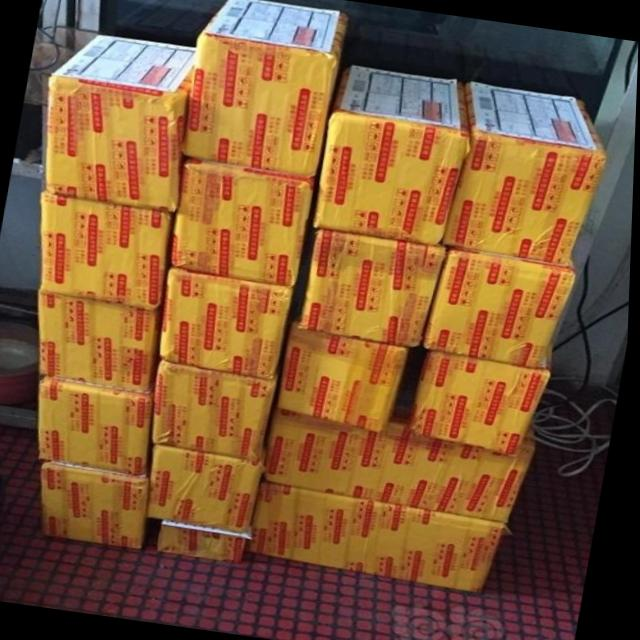box: (265, 397, 538, 523), (446, 81, 610, 268), (249, 482, 510, 595), (184, 0, 348, 178), (316, 65, 472, 245), (45, 35, 195, 212), (170, 156, 316, 286), (425, 247, 577, 369), (304, 229, 450, 350), (411, 346, 556, 456), (41, 193, 175, 310), (162, 267, 296, 380), (278, 324, 412, 432), (39, 290, 165, 393), (155, 359, 280, 462), (40, 378, 158, 477), (151, 444, 267, 534), (42, 460, 153, 551), (161, 520, 251, 563)
